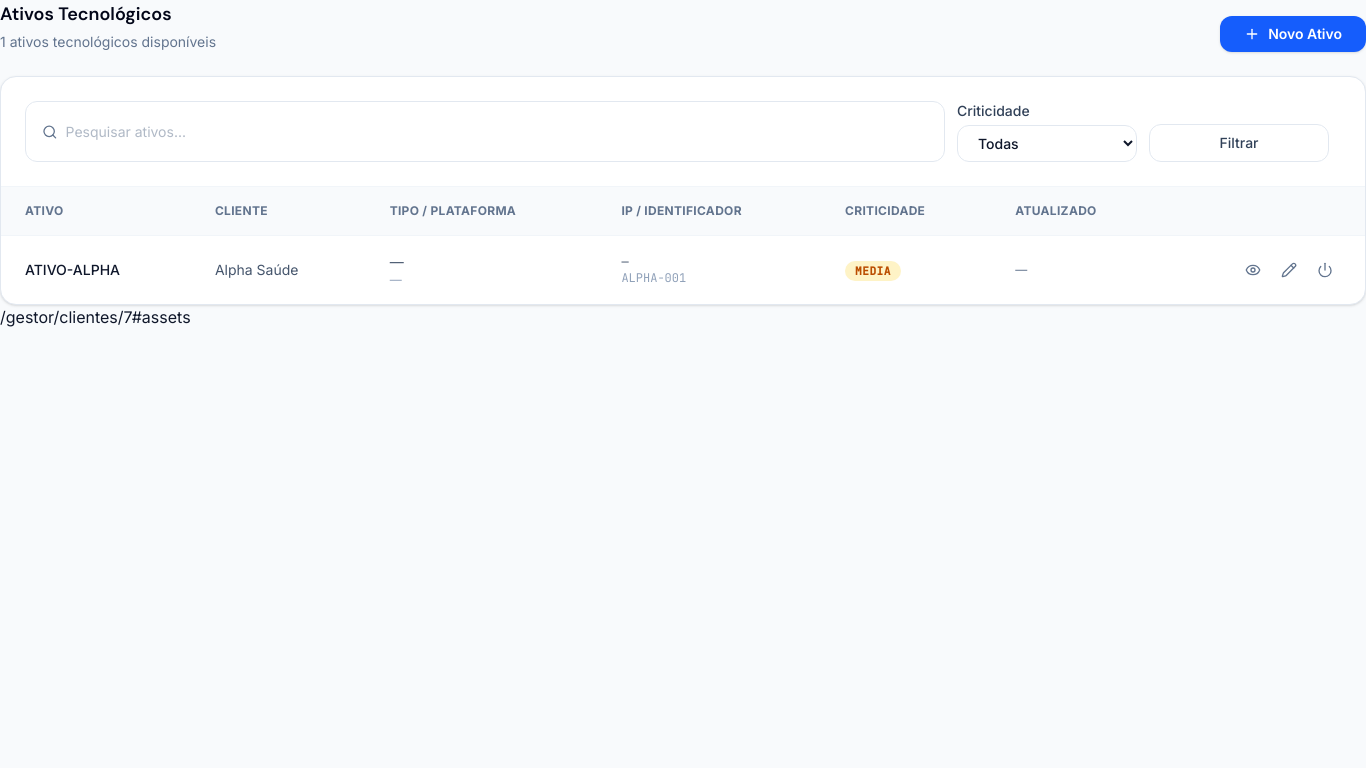
Test: AssetsWorkspace para Cliente › preserva o cliente e o perfil ao voltar no contexto manager
The image size is (1366, 768).
Click the button named "Ver detalhe de ATIVO-ALPHA". click: [1253, 270]
box: left=1237, top=254, right=1269, bottom=286
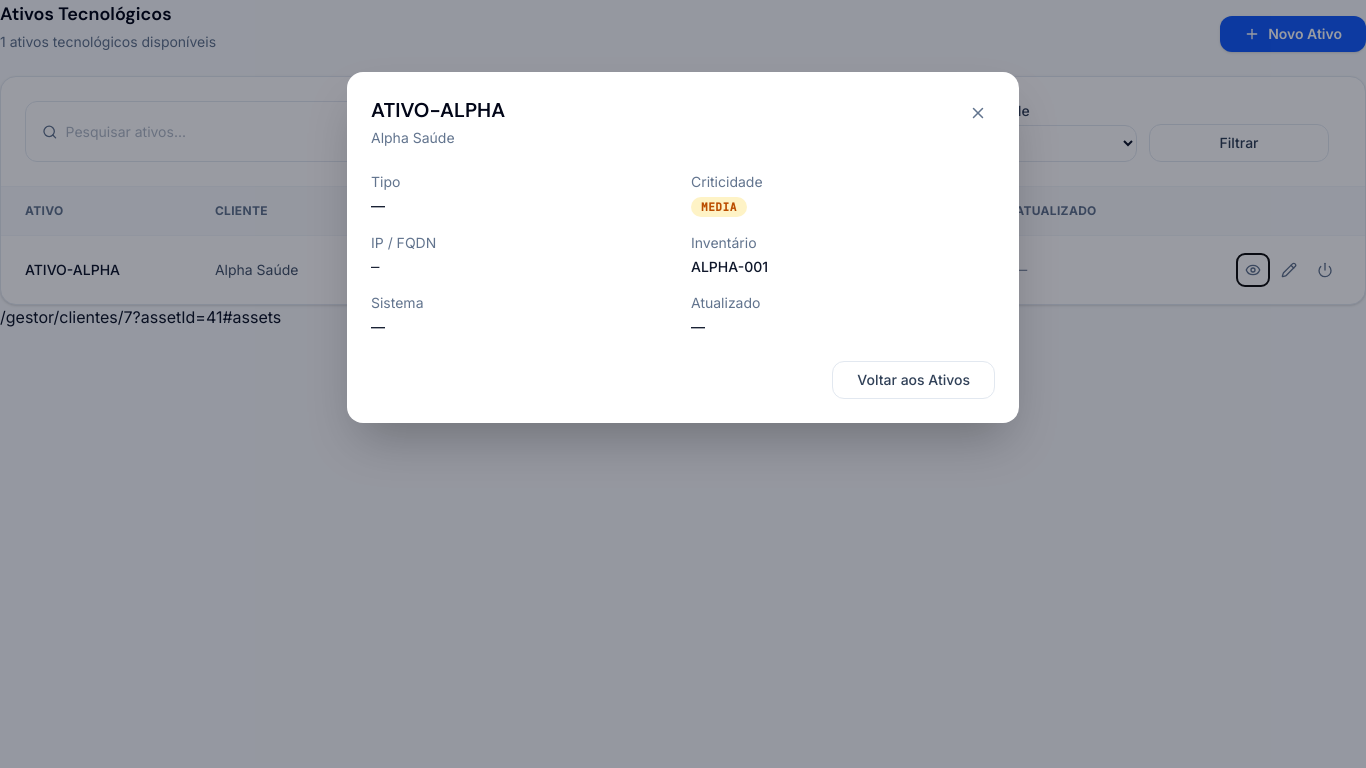
Now the dialog named "Detalhe do ativo" shows "ATIVO-ALPHA", box left=371, top=97, right=505, bottom=123
Now the text with test id "location" reads "/gestor/clientes/7?assetId=41#assets", box left=0, top=307, right=281, bottom=327
Click the button "Voltar aos Ativos". click: [914, 380]
box: left=832, top=361, right=995, bottom=399
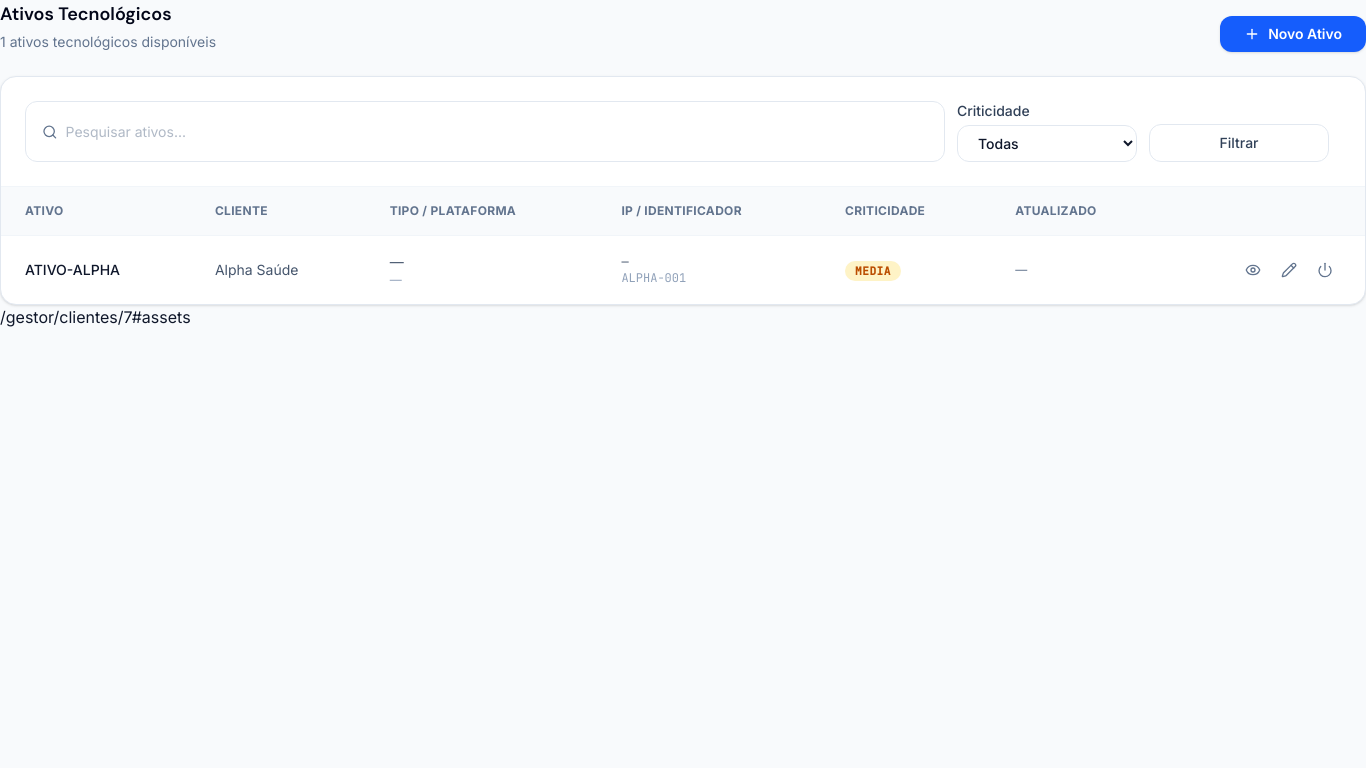
Expected: the text "ATIVO-ALPHA" is shown, left=1, top=236, right=191, bottom=304
Now the text with test id "location" reads "/gestor/clientes/7#assets", box left=0, top=307, right=191, bottom=327
